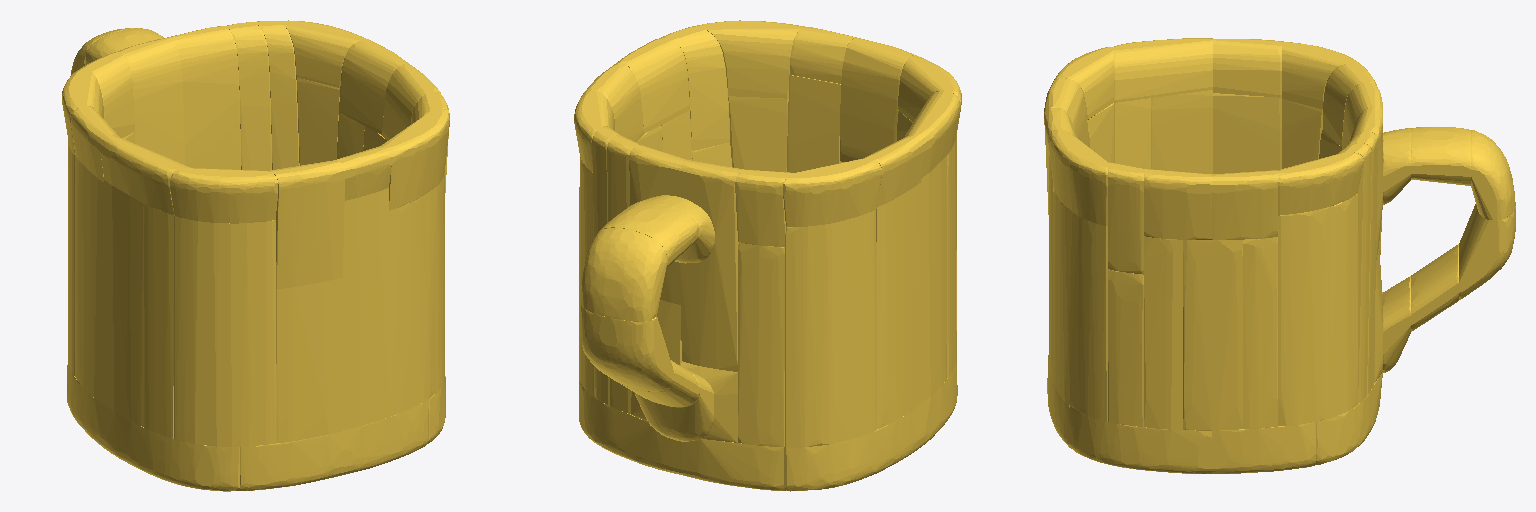
robot.urdf — 135.urdf:
<?xml version="1.0" ?>
<robot name="135.urdf">
	<link name="baseLink">
		<inertial>
			<origin rpy="0 0 0" xyz="0 0 0"/>
				<mass value="0.1"/>
				<inertia ixx="6e-5" ixy="0" ixz="0" iyy="6e-5" iyz="0" izz="6e-5"/>
		</inertial>
		<visual>
			<origin rpy="0 0 0" xyz="0 0 0"/>
			<geometry>
				<mesh filename="36_decom_wt.obj" scale="1.07 1.07 0.92"/>
			</geometry>
			<material name="yellow">
				<color rgba="0.98 0.84 0.35 1"/>
			</material>
		</visual>
		<collision>
			<origin rpy="0 0 0" xyz="0 0 0"/>
			<geometry>
				<mesh filename="36_decom_wt.obj" scale="1.07 1.07 0.92"/>
			</geometry>
		</collision>
	</link>
</robot>

--- What the picture shows (computed from the rendered views, not written in the file) ---
The picture shows the robot from 3 angles, left to right: view 1: azimuth 30°, elevation 25°; view 2: azimuth 150°, elevation 25°; view 3: azimuth 270°, elevation 25°; orthographic projection.
Model 135.urdf with 1 links and 0 joints (none), rooted at baseLink, posed every joint at zero.
Visible links, largest first — view 1: baseLink; view 2: baseLink; view 3: baseLink.
Link boxes in pixels (x1=…): baseLink: x1=62, y1=20, x2=449, y2=491; baseLink: x1=574, y1=20, x2=961, y2=491; baseLink: x1=1044, y1=38, x2=1515, y2=473.
Bounding box of the posed robot: 0.1175 × 0.1626 × 0.1142 m (x, y, z).
Meshes: 1 distinct files referenced, 1 mesh visuals loaded (1 OBJ).